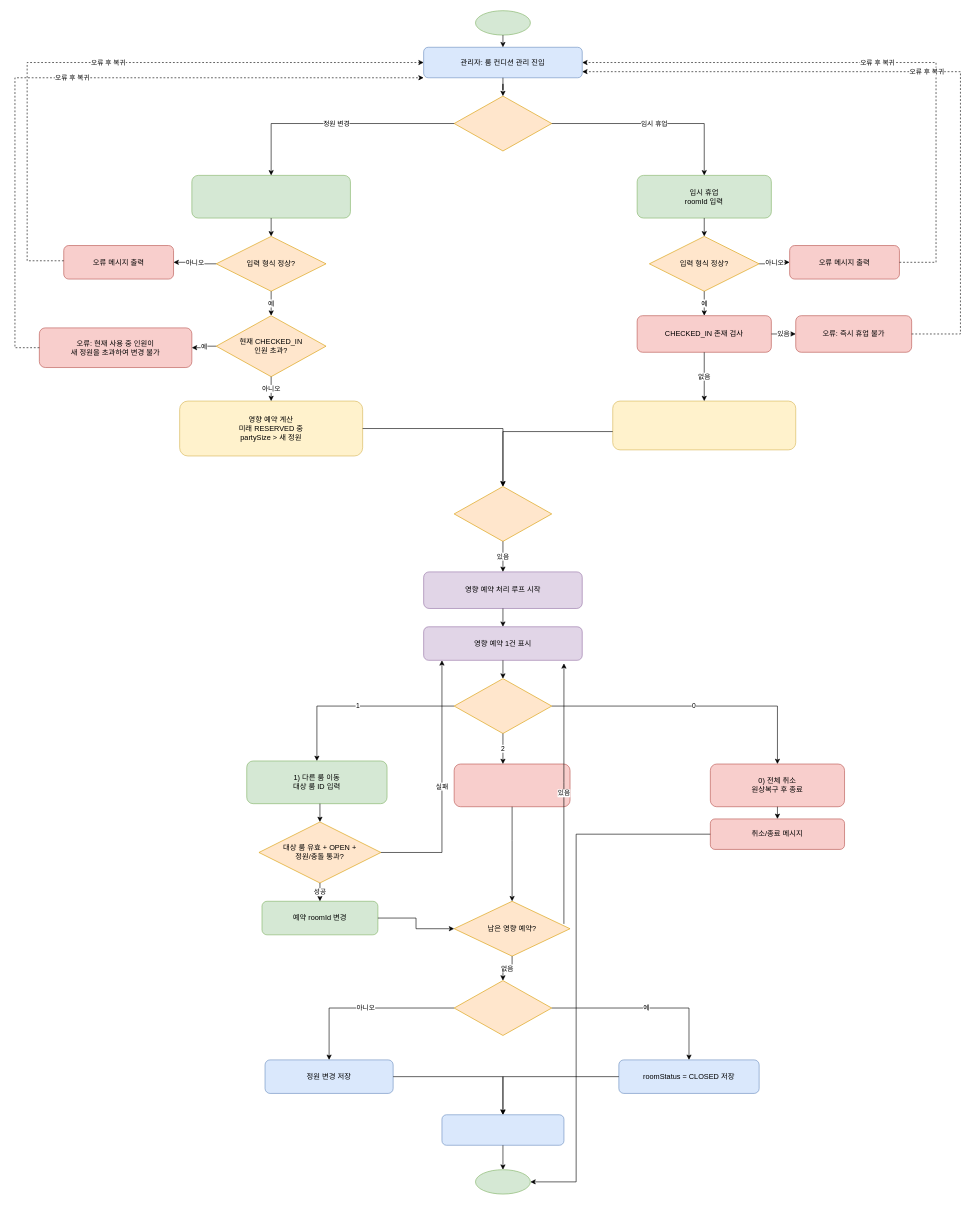
Some shapes in this 976 by 1205 pixel diagram are drawn without their labels. The box of each missing label's shape, as (x1, y1, x2, y2) in pixels:
2) 해당 예약 취소 예약 레코드 삭제: (454, 763, 570, 807)
관리자 선택?: (454, 678, 552, 734)
변경 성공 메시지: (441, 1114, 564, 1145)
시작: (475, 10, 530, 35)
영향 예약 계산 미래 RESERVED in 대상 룸: (612, 400, 796, 450)
영향 예약 존재?: (454, 486, 552, 541)
원작업이 임시 휴업?: (454, 980, 552, 1035)
작업 종류?: (454, 95, 552, 151)
종료: (475, 1169, 530, 1194)
최대 수용 인원 변경 roomId, 새 정원 입력: (191, 175, 350, 218)
